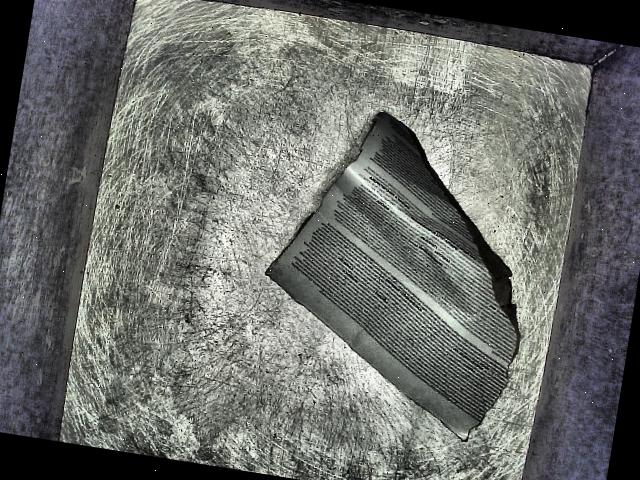Paper: (228, 74, 570, 461)
